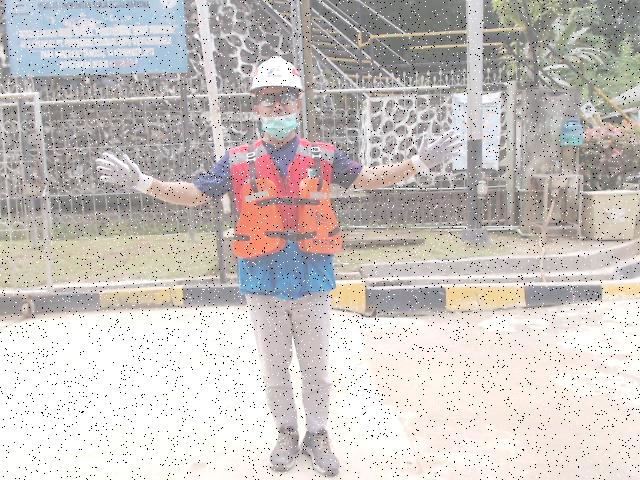glasses: (256, 91, 299, 104)
gloves: (95, 148, 153, 197), (409, 127, 463, 178)
helmet: (250, 56, 303, 92)
mask: (262, 115, 298, 139)
safety-shoes: (302, 428, 340, 477), (269, 425, 300, 474)
vest: (229, 177, 342, 260)
